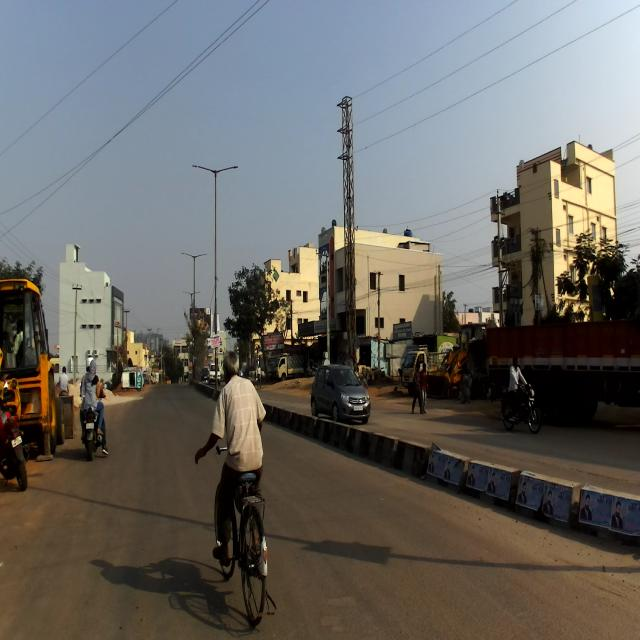bicycle ahead at: (210, 464, 276, 630)
motorcycle ahead at: (1, 392, 30, 487)
truck ahead at: (5, 271, 69, 457)
